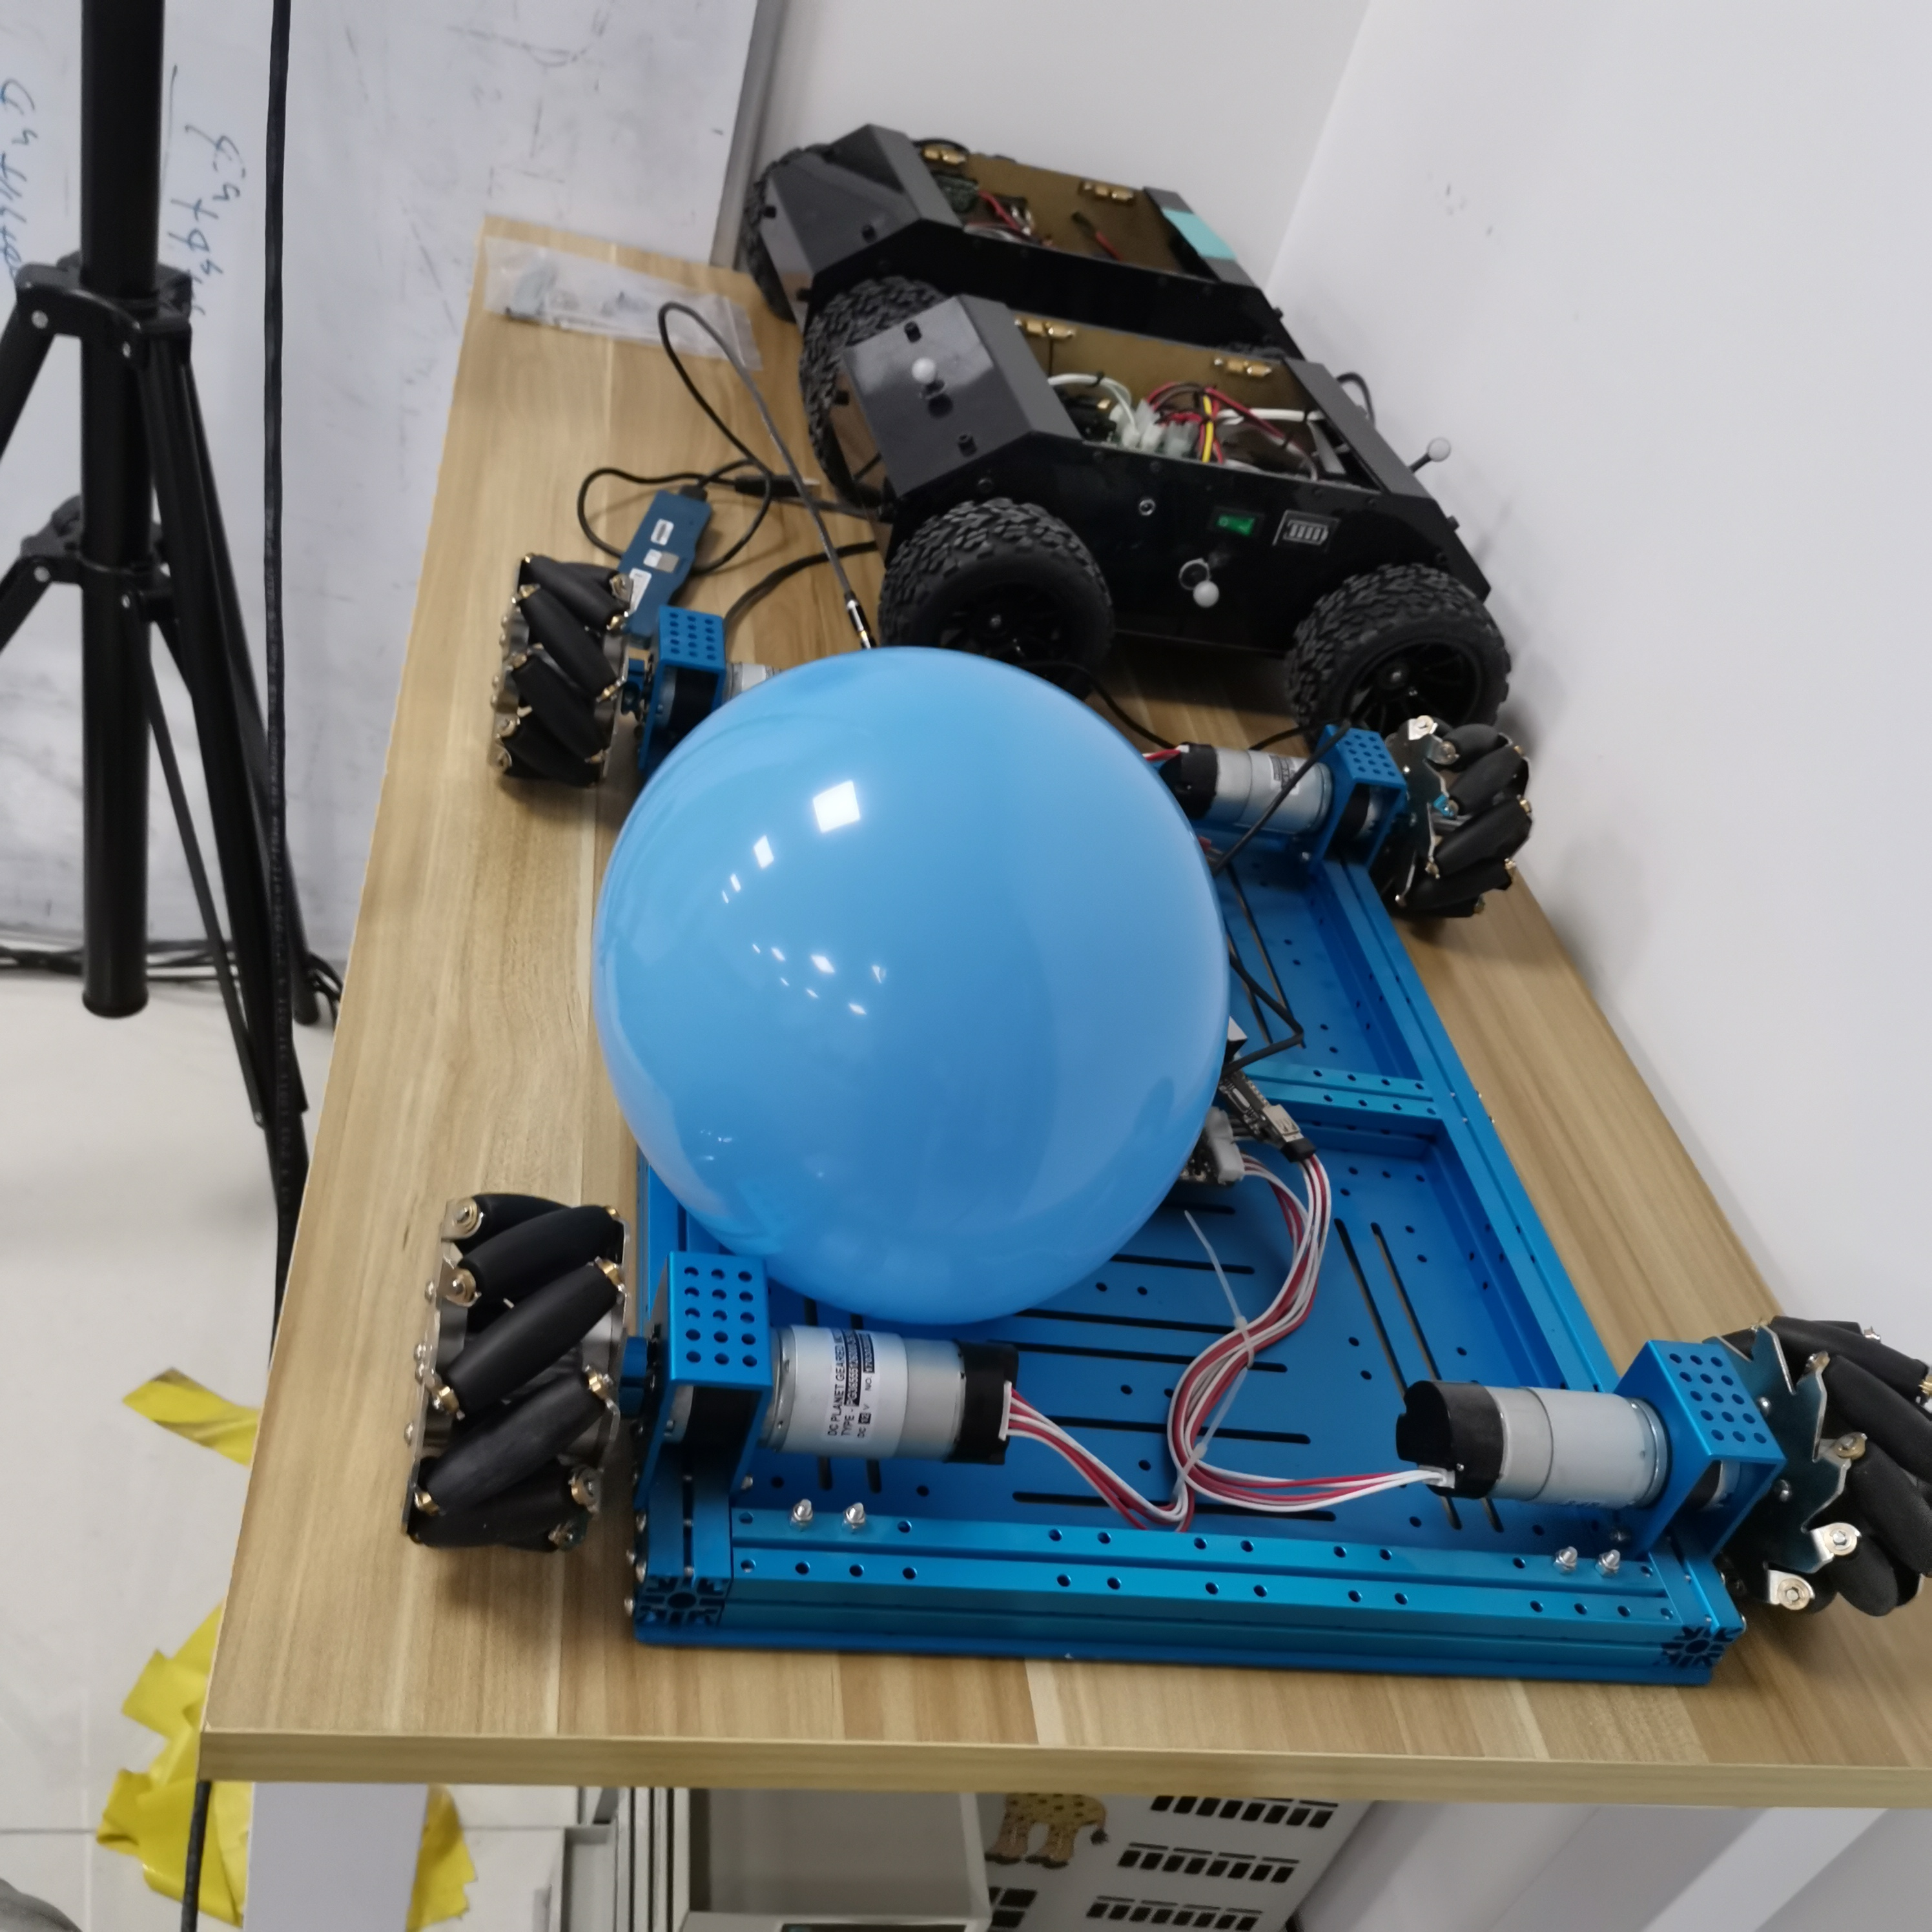balloon: (591, 648, 1231, 1330)
